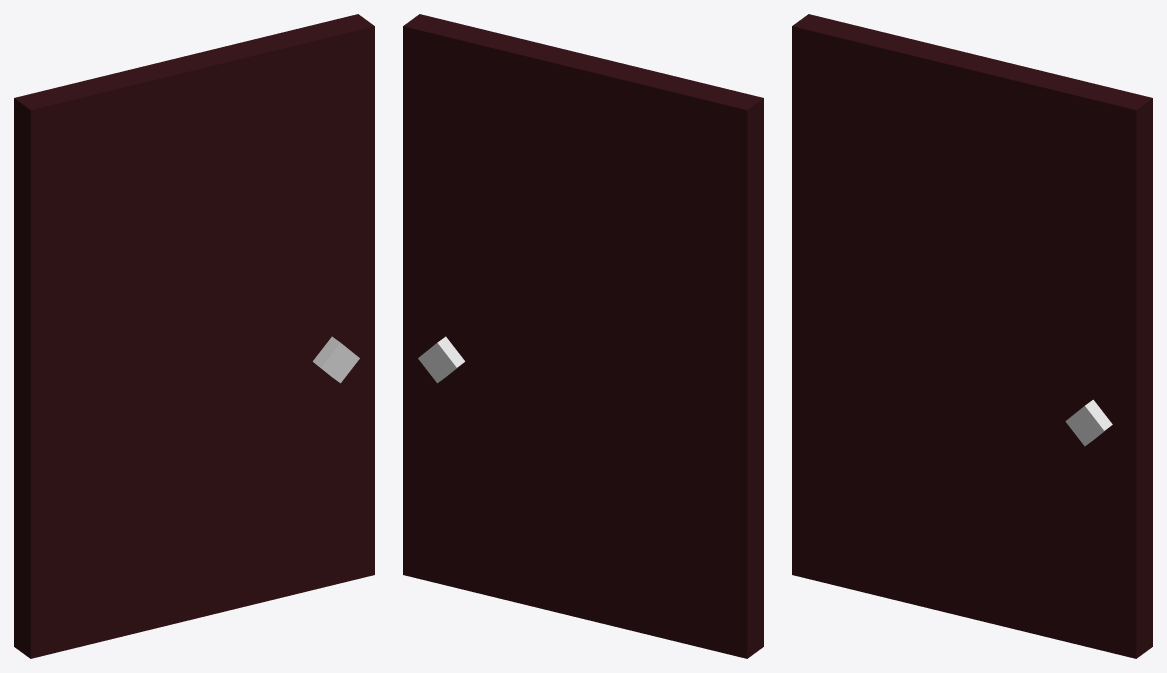
Rendered from house_door.glb.
The picture shows the model from 3 angles, left to right: view 1: azimuth 30°, elevation 25°; view 2: azimuth 150°, elevation 25°; view 3: azimuth 330°, elevation 25°; orthographic projection.
Visible parts, largest first — view 1: house_door; view 2: house_door; view 3: house_door.
Boxes of the visible parts, bbox=[...] form: house_door: bbox=[14, 14, 374, 658]; house_door: bbox=[403, 14, 763, 658]; house_door: bbox=[792, 14, 1152, 658].
Size of the model in its own units: 1 by 1.52 by 0.1703.
